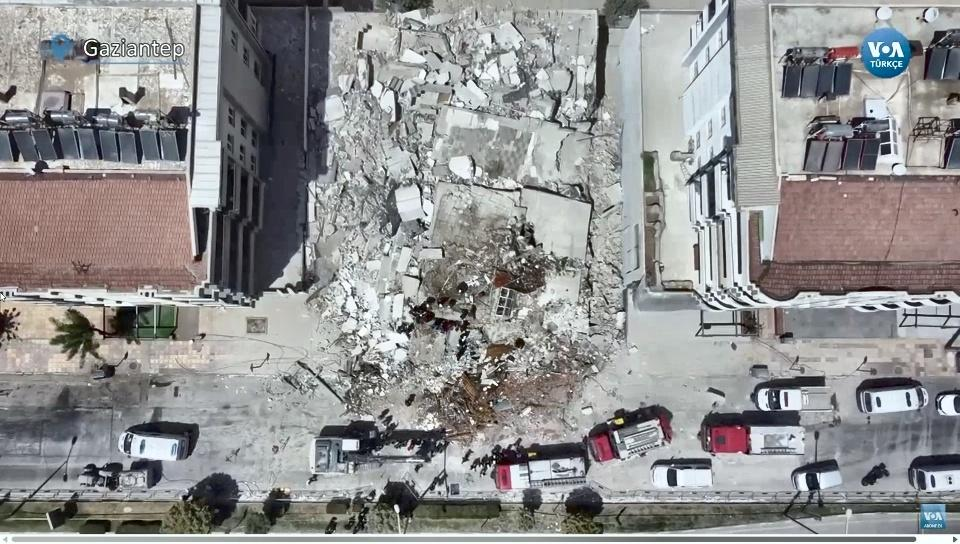kapali: (274, 376, 664, 501)
